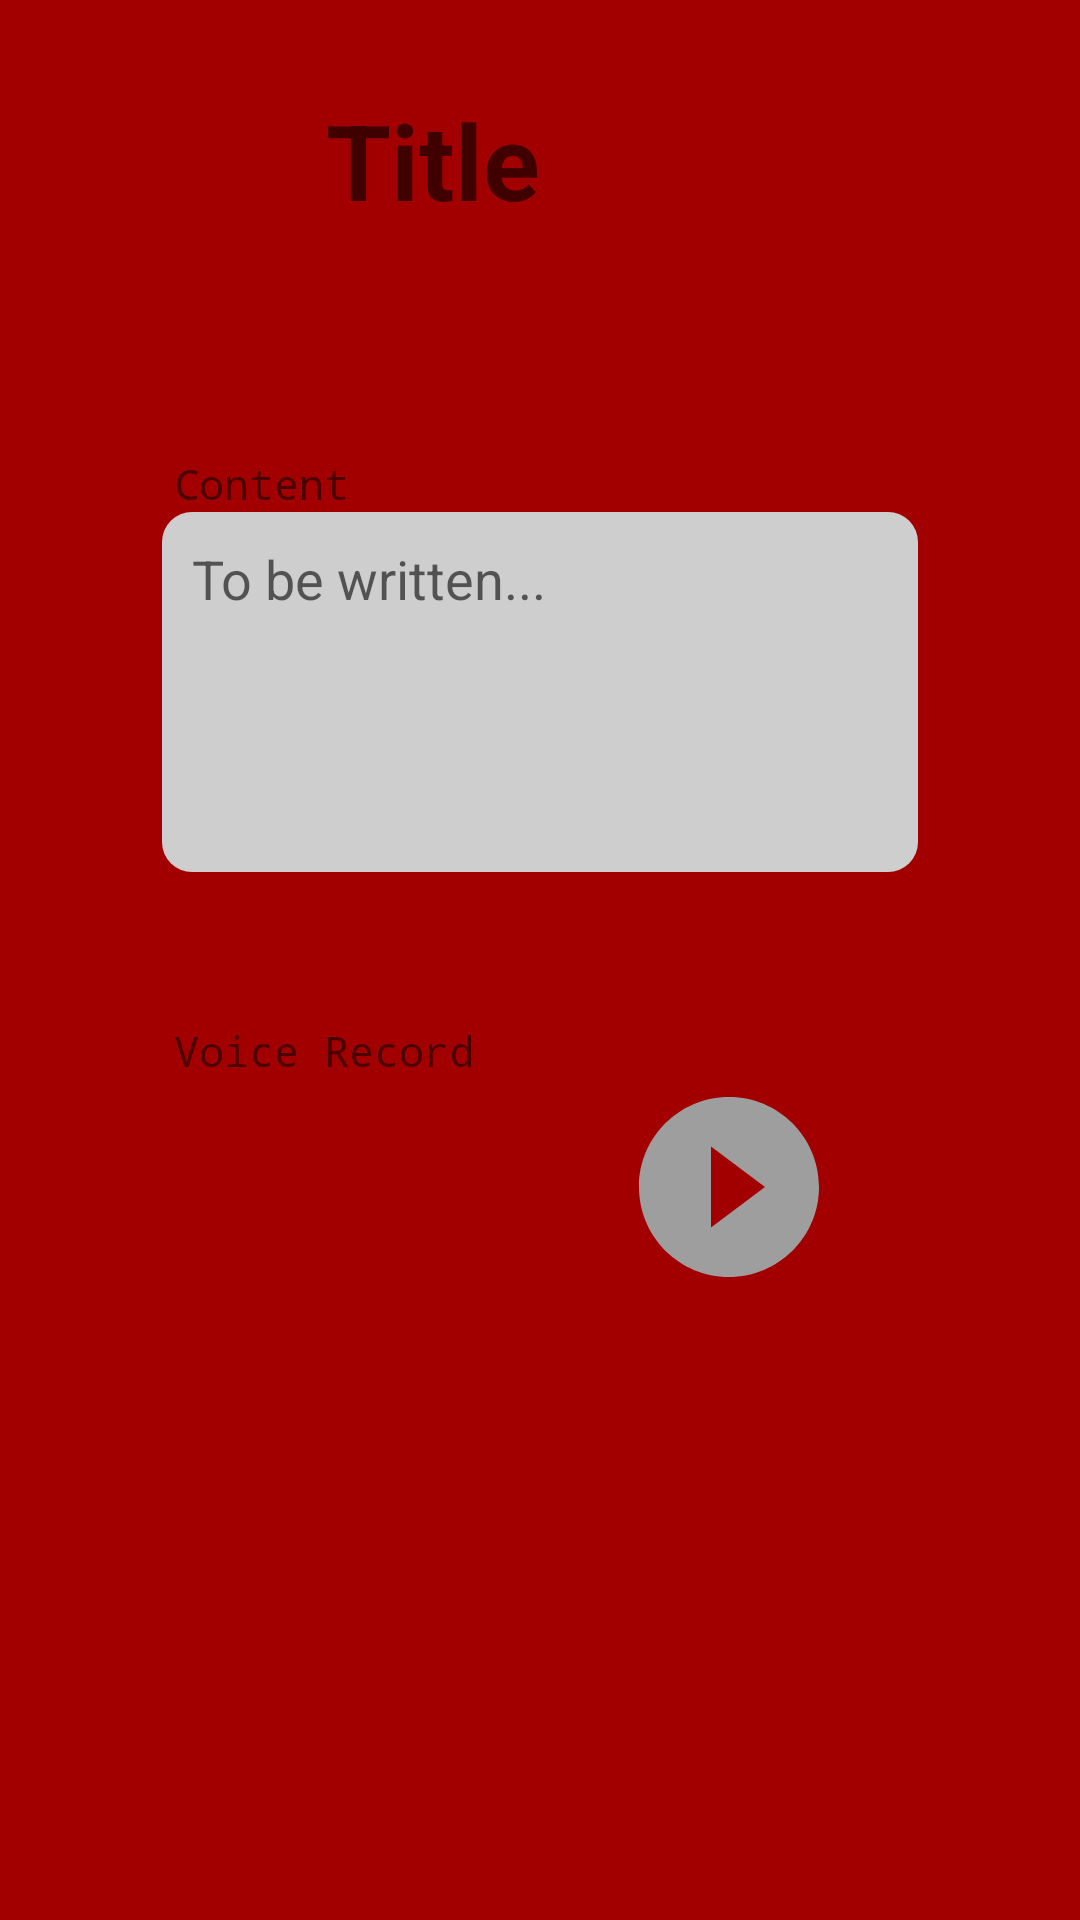

Where icons sit on this 1080 x 1920 app screen, as bbox=[x1, y1, x2, y2]:
play: bbox=[639, 1097, 819, 1277]
